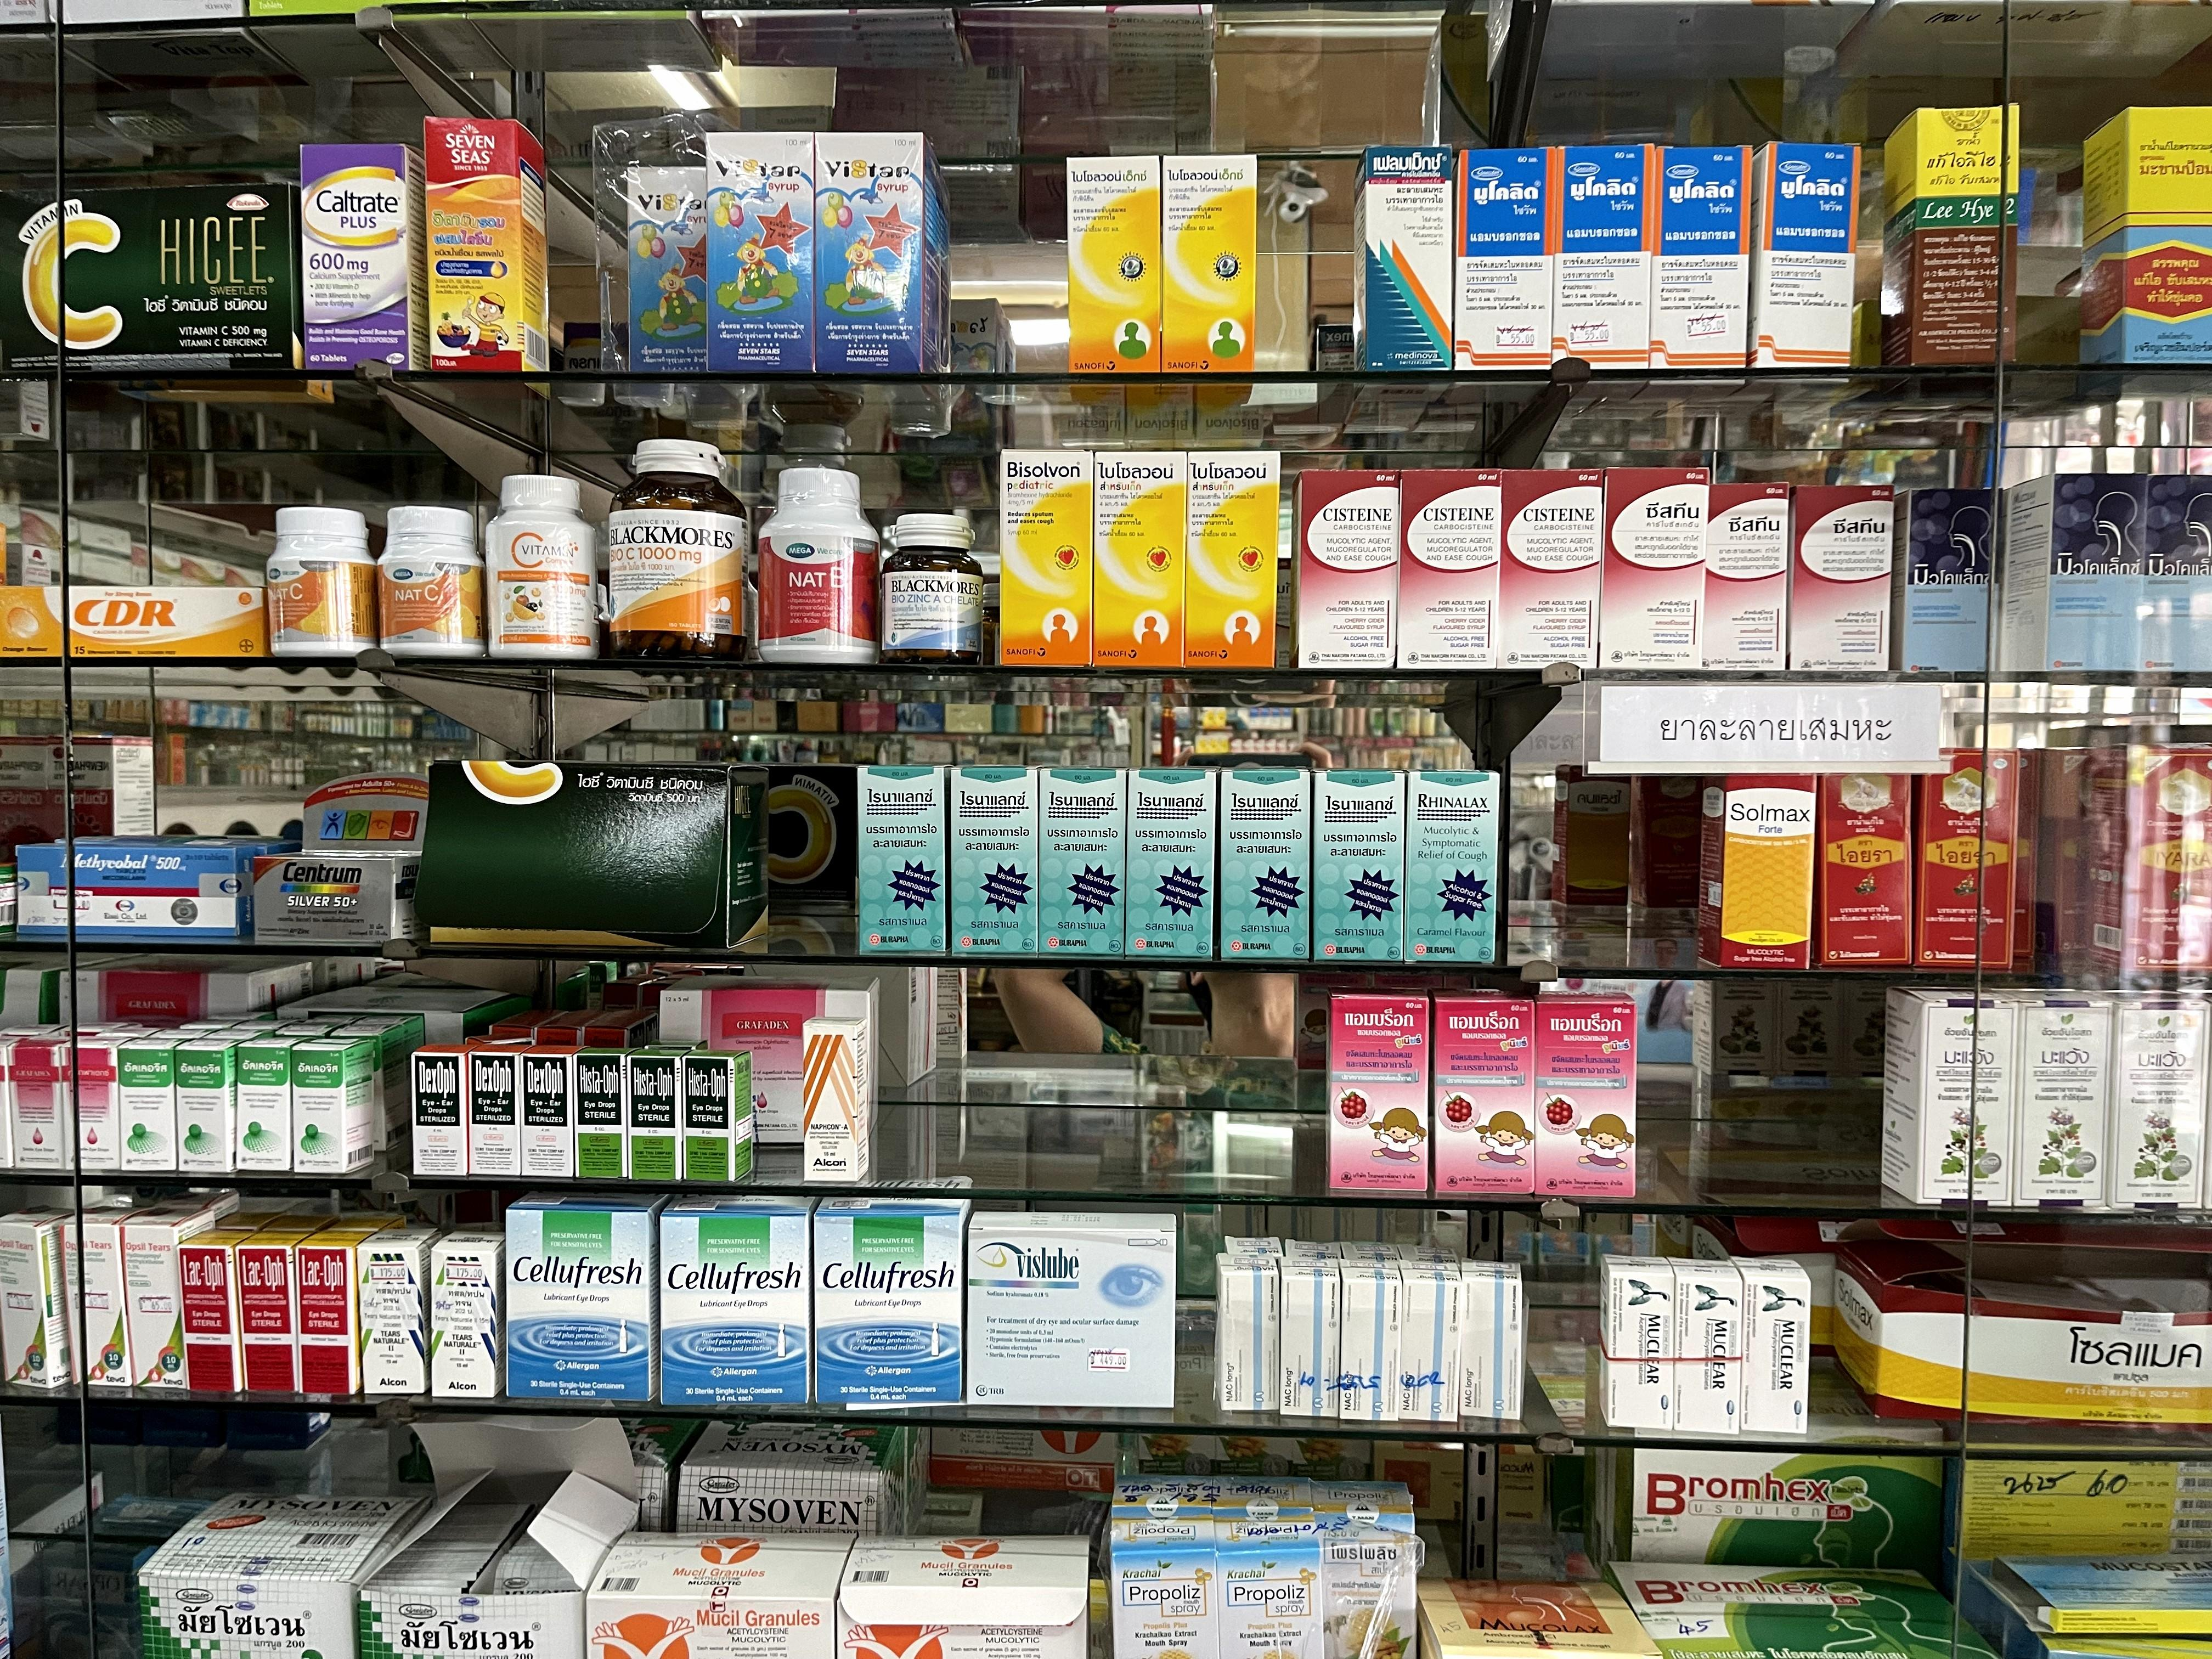Allergis: (293, 1039, 374, 1175), (176, 1039, 247, 1173), (333, 1025, 408, 1150), (239, 1035, 307, 1171), (118, 1037, 185, 1171), (355, 1014, 425, 1058)
Blackmores: (608, 439, 749, 664)
Cisteine: (1294, 469, 1400, 669), (1601, 467, 1703, 669), (1400, 469, 1501, 666), (1501, 471, 1599, 673), (1791, 484, 1892, 673), (1705, 479, 1787, 671)
Grafadex: (63, 1033, 136, 1171), (10, 1037, 75, 1169), (0, 1033, 30, 1169)
Iyara: (2102, 741, 2212, 976), (1818, 746, 1916, 969), (1921, 746, 2015, 969)
Lac-Oph_Red: (298, 1230, 362, 1391), (181, 1237, 246, 1394), (239, 1230, 300, 1392)
Ma-Kham-Pom: (2083, 103, 2212, 364)
Ma-Vaeng_Syrup: (1886, 988, 2012, 1209), (2010, 988, 2113, 1209), (2111, 988, 2209, 1211)
Mucolax: (1900, 488, 1998, 676)
Nac-Long: (1278, 1255, 1343, 1417), (1339, 1258, 1402, 1420), (1216, 1253, 1280, 1410), (1400, 1258, 1461, 1422), (1461, 1262, 1522, 1417)
NatC: (380, 505, 489, 659), (270, 509, 380, 657)
Rhinalax: (1404, 769, 1500, 962), (1312, 767, 1404, 962), (859, 765, 951, 955), (1036, 765, 1129, 955), (1219, 767, 1310, 960), (1127, 769, 1219, 957), (951, 765, 1042, 953)
Solmax: (1703, 749, 1815, 972)
Solmax-Capsule: (1844, 1222, 2212, 1425)
